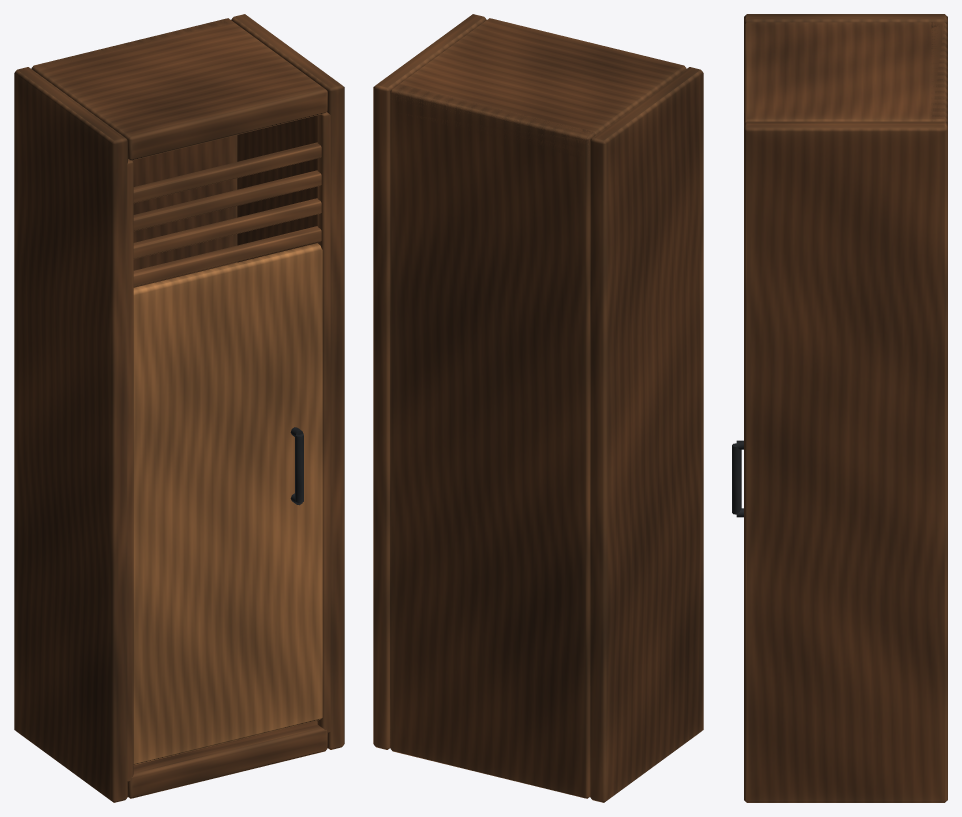
The model's file is Furn_Dress_Locker.fbx.
The picture shows the model from 3 angles, left to right: view 1: azimuth 30°, elevation 25°; view 2: azimuth 150°, elevation 25°; view 3: azimuth 270°, elevation 25°; orthographic projection.
Parts seen in each view (by area): view 1: Furn_Dress_Locker; view 2: Furn_Dress_Locker; view 3: Furn_Dress_Locker.
Boxes of the visible parts, x1,y1,x2,y2 form: Furn_Dress_Locker: (14, 14, 344, 802); Furn_Dress_Locker: (373, 14, 703, 802); Furn_Dress_Locker: (732, 14, 947, 802).
Bounding box in the file's own units: 0.7 × 1.9 × 0.55.
Materials: 3 (3 with a texture image).
